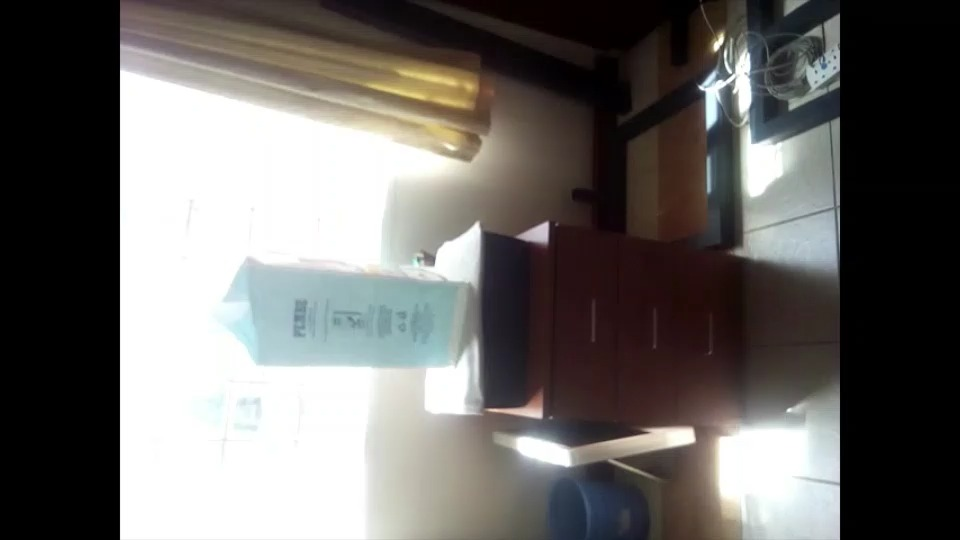wheat_flour_blue_label: (210, 253, 473, 371)
